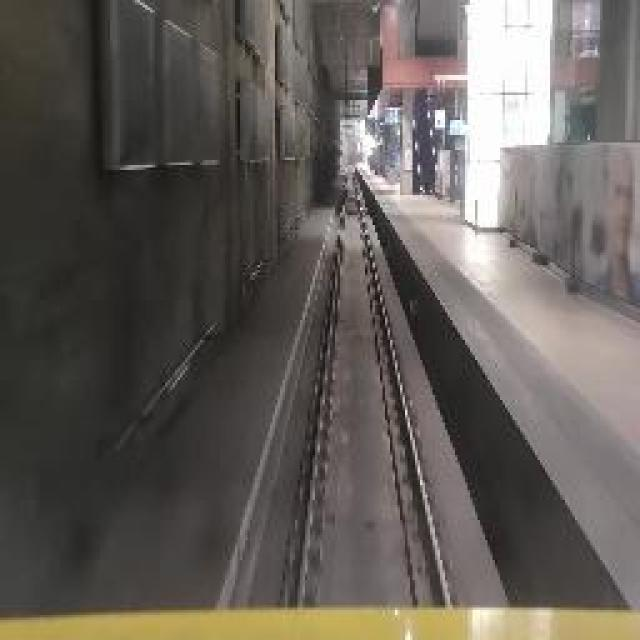rail: (255, 162, 506, 606)
